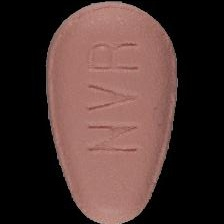49999-878: (0, 0, 224, 224)
